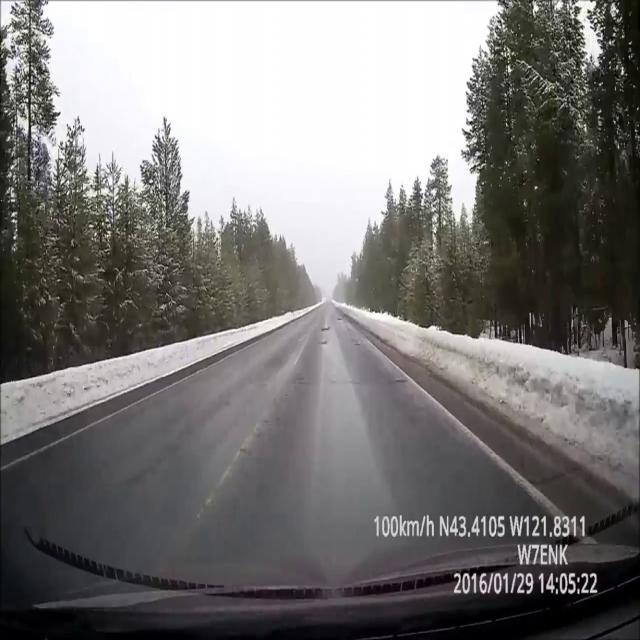Pothole: (318, 340, 328, 345), (321, 327, 330, 331), (353, 343, 361, 346), (339, 318, 343, 321)
